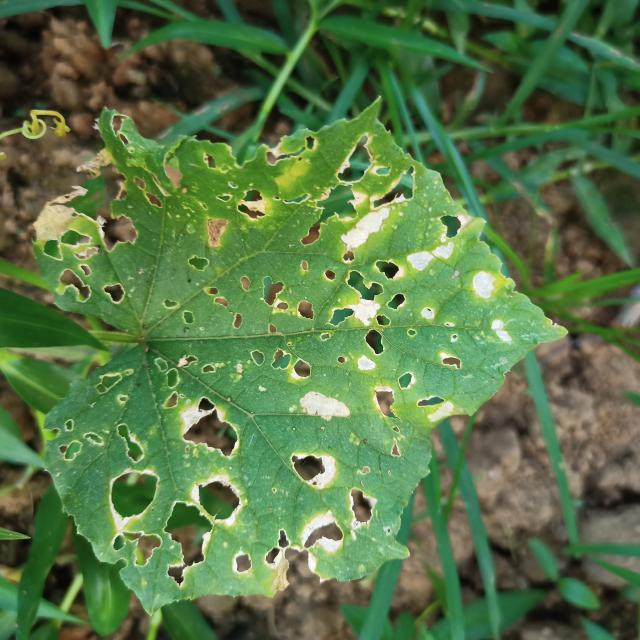disease_cucumber: (37, 132, 507, 570)
